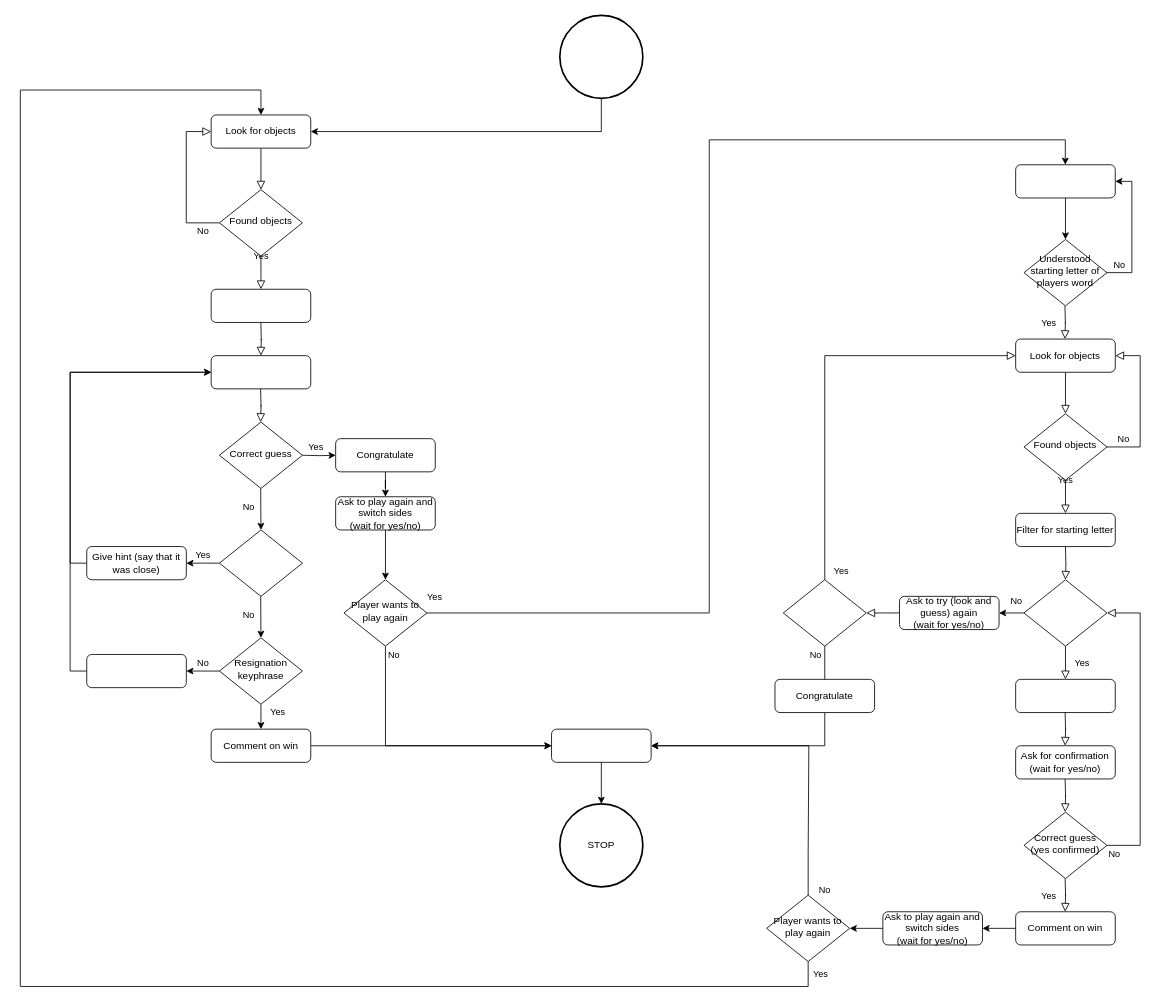
This 1164x1008 diagram has some shape labels left out. The shapes that lost their labels are listed below. From the top down, each one's centre as x and y in pixels, then its label:
[601,56]: START
[1065,181]: Listen for player "I spy" statement
[260,305]: Choose random object
[260,372]: Listen for guesses (wait for guess)
[260,562]: Close guess (supercategory)
[824,612]: Player allows retry
[1065,612]: Has remaining guesses
[136,671]: Comment on miss
[1065,696]: Guess
[601,745]: End game; say goodbye
